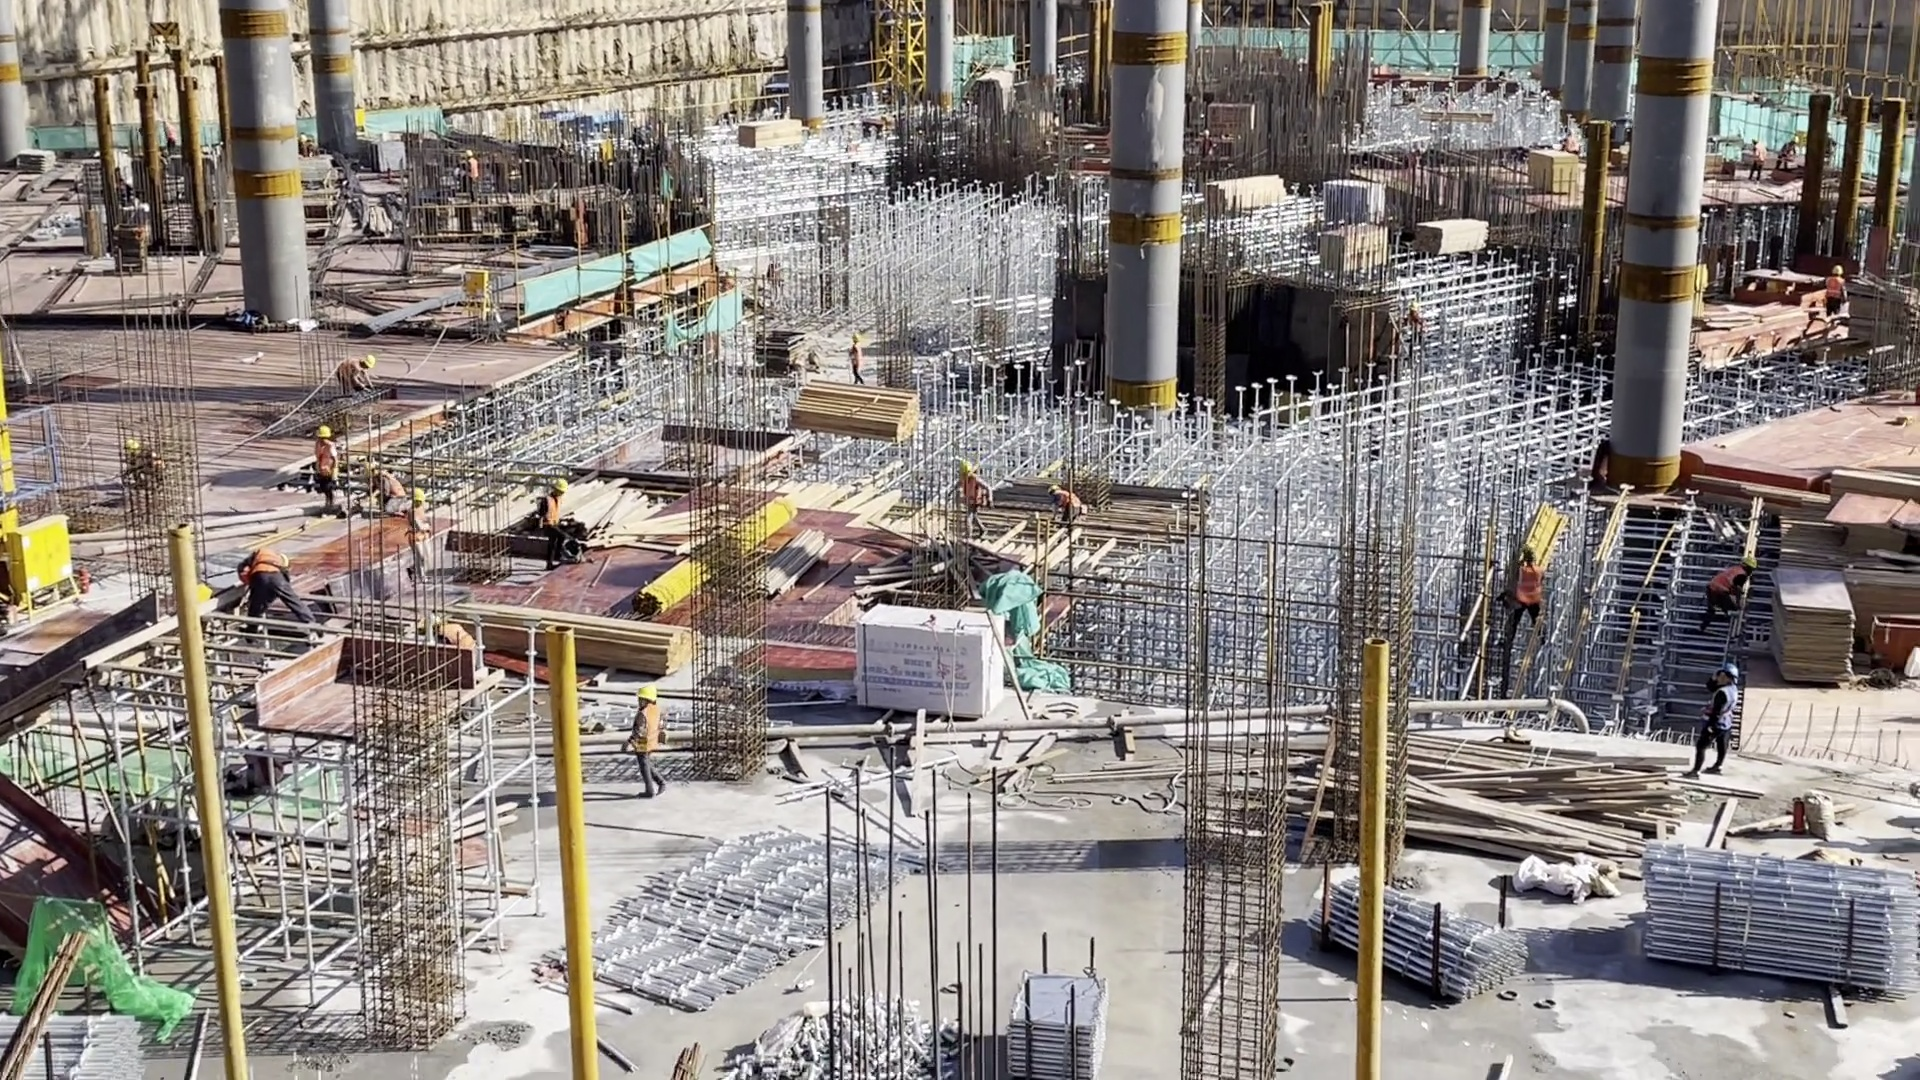board: (1777, 573, 1855, 692), (1833, 484, 1901, 559), (1316, 234, 1397, 289), (1529, 145, 1579, 194)
cutter: (1735, 262, 1828, 308)
ebox: (13, 509, 83, 609), (462, 267, 489, 319)
helmet: (1716, 662, 1738, 684), (637, 685, 658, 703), (549, 478, 568, 494), (1738, 555, 1758, 570), (315, 424, 332, 440), (957, 459, 972, 476), (362, 355, 375, 368), (412, 490, 425, 502), (850, 332, 863, 343), (1832, 267, 1844, 276)
person: (237, 545, 316, 637), (1701, 658, 1741, 786), (1509, 548, 1548, 672), (1698, 555, 1757, 636), (627, 683, 661, 811), (306, 424, 340, 523), (531, 478, 568, 564), (958, 455, 991, 539), (404, 489, 434, 568), (433, 617, 477, 662), (1048, 484, 1092, 529), (336, 354, 375, 399), (369, 467, 402, 508), (1828, 260, 1847, 322), (846, 331, 864, 387), (462, 149, 479, 204), (1775, 136, 1800, 172), (1746, 137, 1765, 183)
scaffold: (559, 811, 891, 1026), (1640, 836, 1920, 1024), (1311, 855, 1525, 1005), (1008, 959, 1113, 1080), (1, 1004, 159, 1080)
vest: (626, 704, 662, 757), (244, 546, 293, 578), (1707, 565, 1748, 599), (1710, 686, 1738, 733), (1516, 565, 1543, 605), (439, 622, 476, 650), (315, 441, 338, 482), (960, 475, 984, 509), (410, 504, 431, 542), (338, 360, 361, 383), (543, 494, 561, 525), (1826, 276, 1845, 300), (1056, 493, 1081, 510), (850, 343, 863, 368)
wood: (1360, 738, 1681, 850), (428, 601, 697, 686), (472, 474, 699, 555), (787, 381, 932, 440), (1210, 177, 1293, 226), (1414, 215, 1490, 255), (733, 113, 806, 152)
